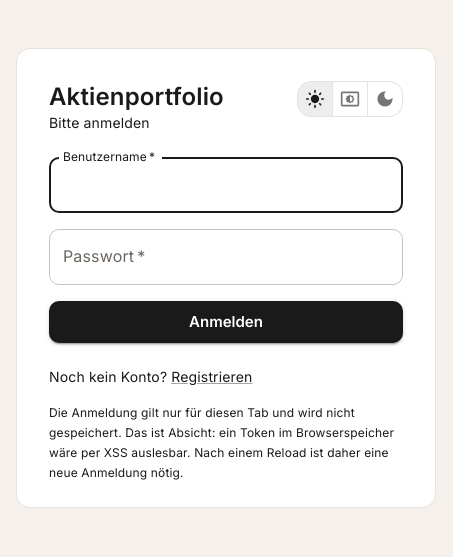
Test: Anmelden › meldet falsche Zugangsdaten auf Deutsch und bleibt auf der Login-Seite
In the field labelled "Benutzername *": (226, 185) [49,157,403,213], type "demo"
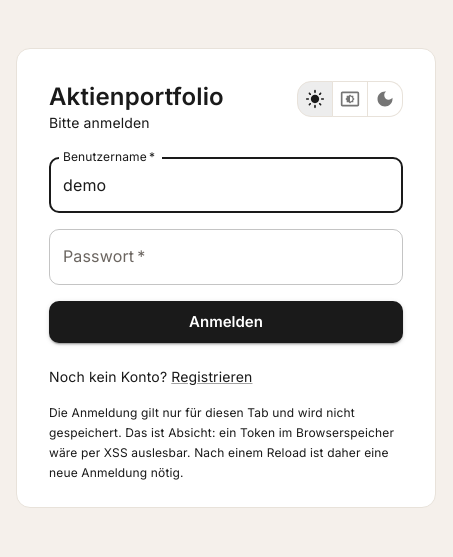
In the password field labelled "Passwort *": (226, 257) [49,229,403,285], type "falschespasswort"
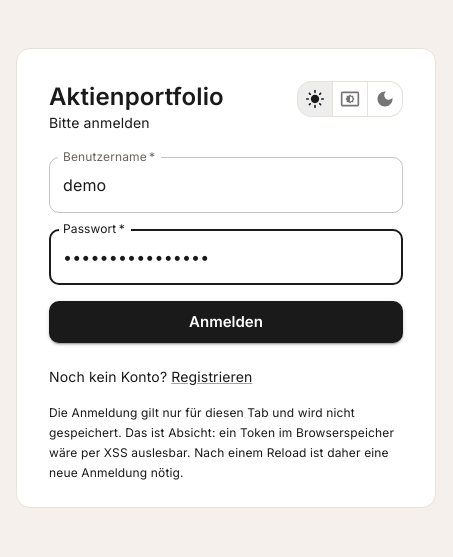
Click the button "Anmelden": (226, 322) [49,301,403,343]
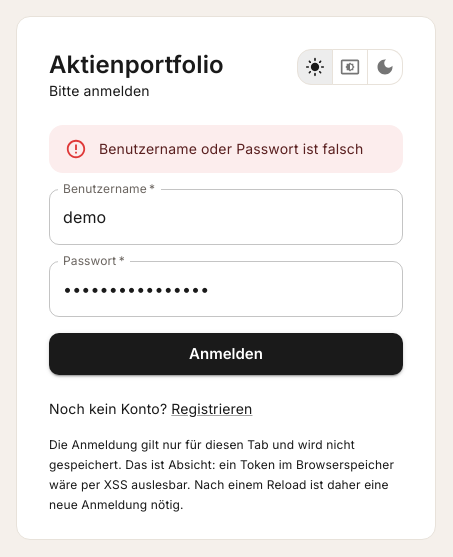
expect the text "Bitte anmelden" is shown: met, box [49,82,150,99]
expect the text "Benutzername oder Passwort ist falsch" is shown: met, box [99,140,363,157]
